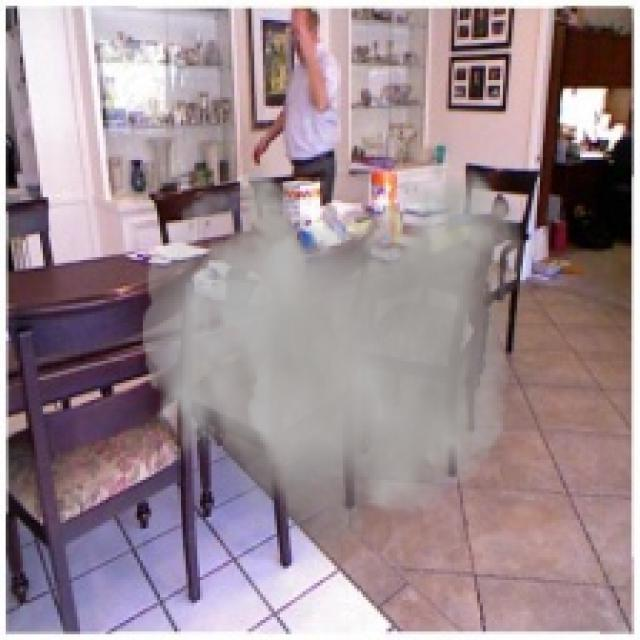Smoke: (143, 157, 526, 572)
